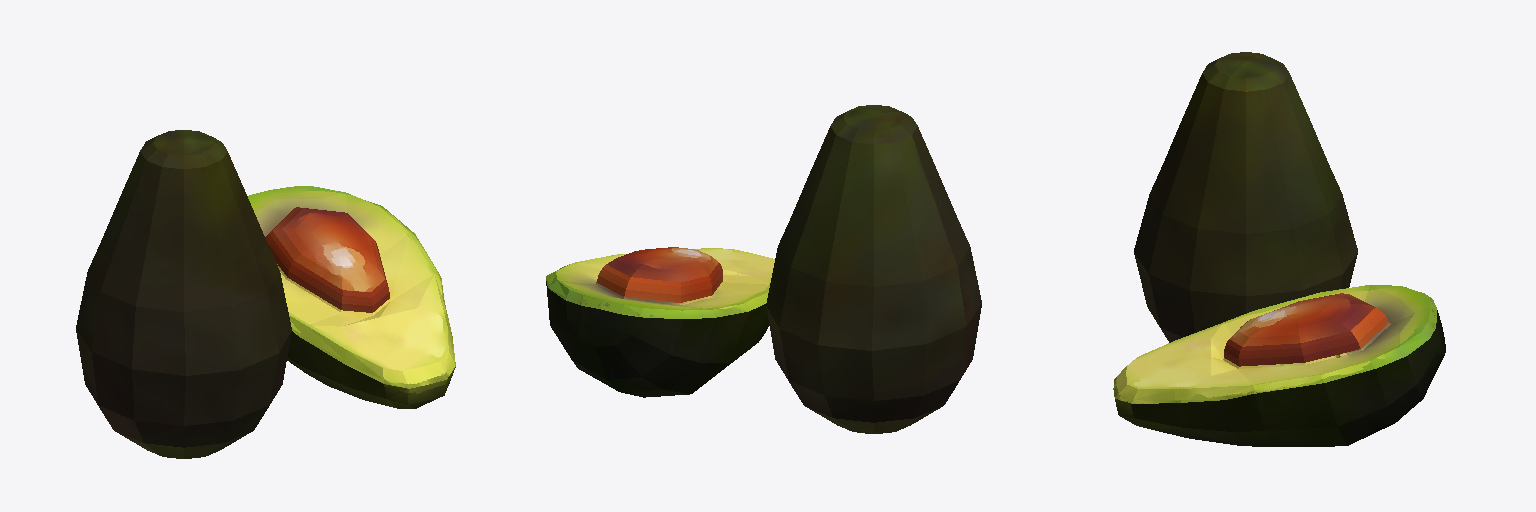
3 views of the same model, side by side, from view 1: azimuth 30°, elevation 25°; view 2: azimuth 150°, elevation 25°; view 3: azimuth 270°, elevation 25° (orthographic).
Visible parts, largest first — view 1: pCone12, pCone11; view 2: pCone12, pCone11; view 3: pCone12, pCone11.
Part boxes in pixels (bbox=[...]): pCone12: bbox=[76, 130, 291, 458]; pCone11: bbox=[248, 186, 455, 408]; pCone12: bbox=[766, 105, 981, 433]; pCone11: bbox=[546, 247, 774, 397]; pCone12: bbox=[1134, 52, 1357, 342]; pCone11: bbox=[1113, 285, 1445, 446].
Size of the model in its own units: 14.33 by 11.42 by 11.38.
1 materials, 1 textured.